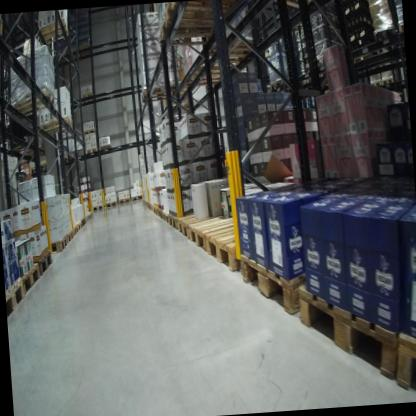pallet: (297, 268, 404, 391), (236, 239, 314, 326), (204, 215, 264, 277), (153, 14, 238, 50), (189, 211, 243, 256), (161, 0, 243, 27), (390, 323, 416, 398), (207, 31, 263, 65), (190, 51, 242, 87), (177, 208, 230, 242), (13, 87, 57, 118), (137, 77, 184, 106), (36, 21, 77, 50), (17, 258, 44, 300), (44, 111, 78, 140), (373, 22, 400, 56), (5, 278, 26, 319), (45, 234, 69, 258), (35, 248, 55, 276), (312, 63, 336, 77), (169, 210, 180, 231), (270, 78, 289, 90), (396, 17, 404, 40), (80, 91, 94, 104), (84, 145, 97, 159), (98, 142, 111, 156), (0, 16, 5, 46), (381, 75, 396, 85), (162, 208, 171, 224), (91, 203, 104, 213), (118, 196, 132, 205), (105, 199, 118, 208), (131, 193, 144, 202), (68, 230, 75, 244), (72, 225, 80, 237), (158, 207, 164, 222), (77, 219, 84, 230), (80, 216, 86, 227), (154, 203, 159, 216), (150, 203, 154, 214)
